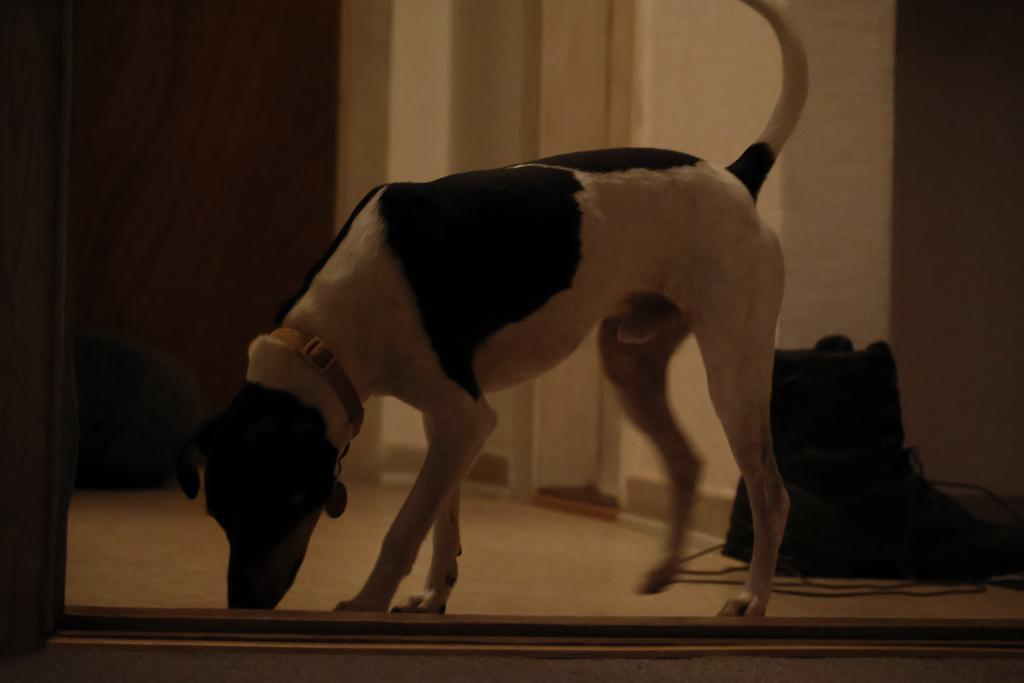Dog: (163, 0, 819, 628)
